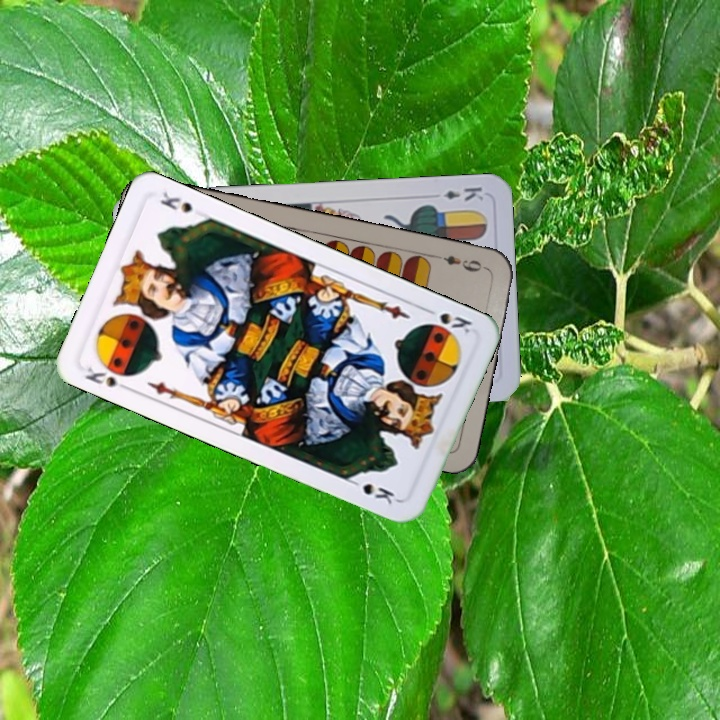E9: (431, 250, 489, 275)
EK: (440, 183, 486, 203)
SK: (419, 303, 475, 336), (81, 363, 135, 394)
